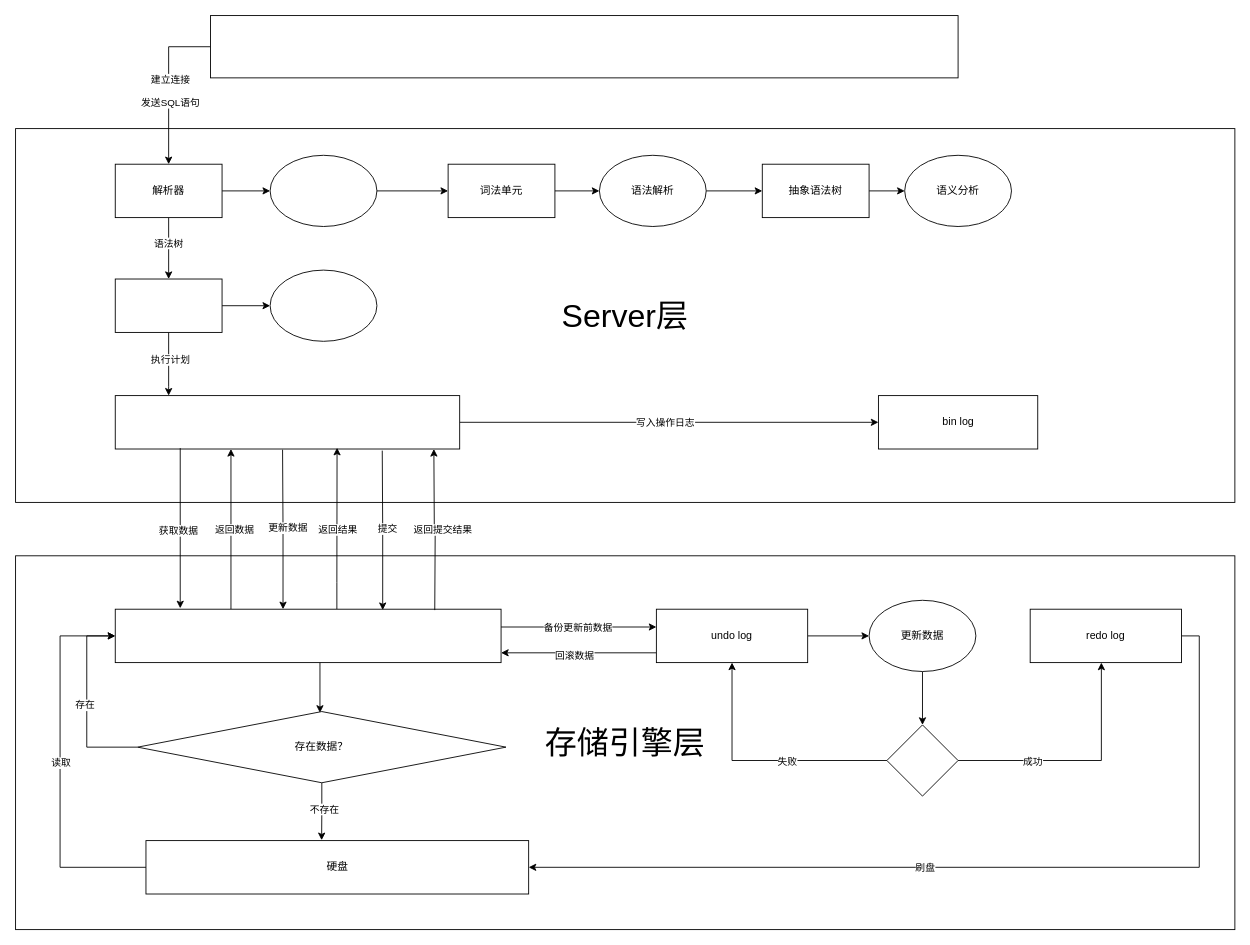
Some shapes in this 1250 by 945 pixel diagram are drawn without their labels. Each missing label, with the centre of its shape:
"Buffer Pool" goes at point 307,635.
"client" goes at point 584,46.
"const" goes at point 323,305.
"优化器" goes at point 168,305.
"执行器" goes at point 287,422.
"更新成功？" goes at point 922,760.
"词法解析" goes at point 323,190.
